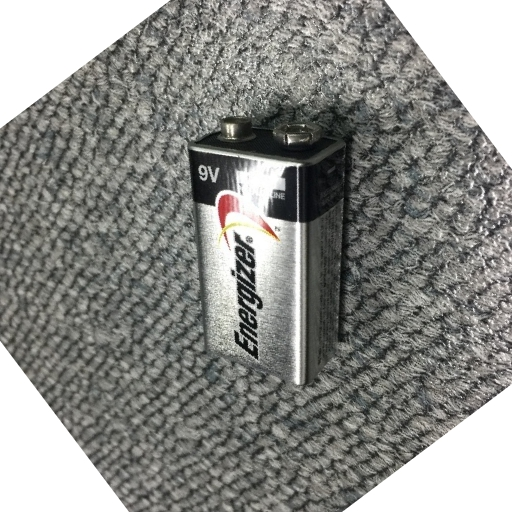Battery_3: (184, 96, 356, 397)
